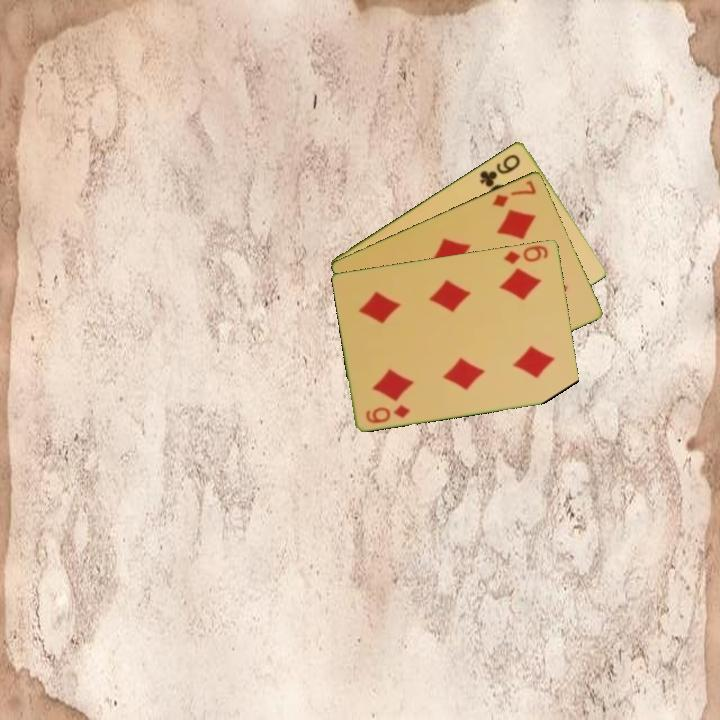6d: (362, 401, 413, 426), (501, 242, 551, 267)
7d: (489, 176, 539, 210)
9c: (476, 150, 523, 190)
